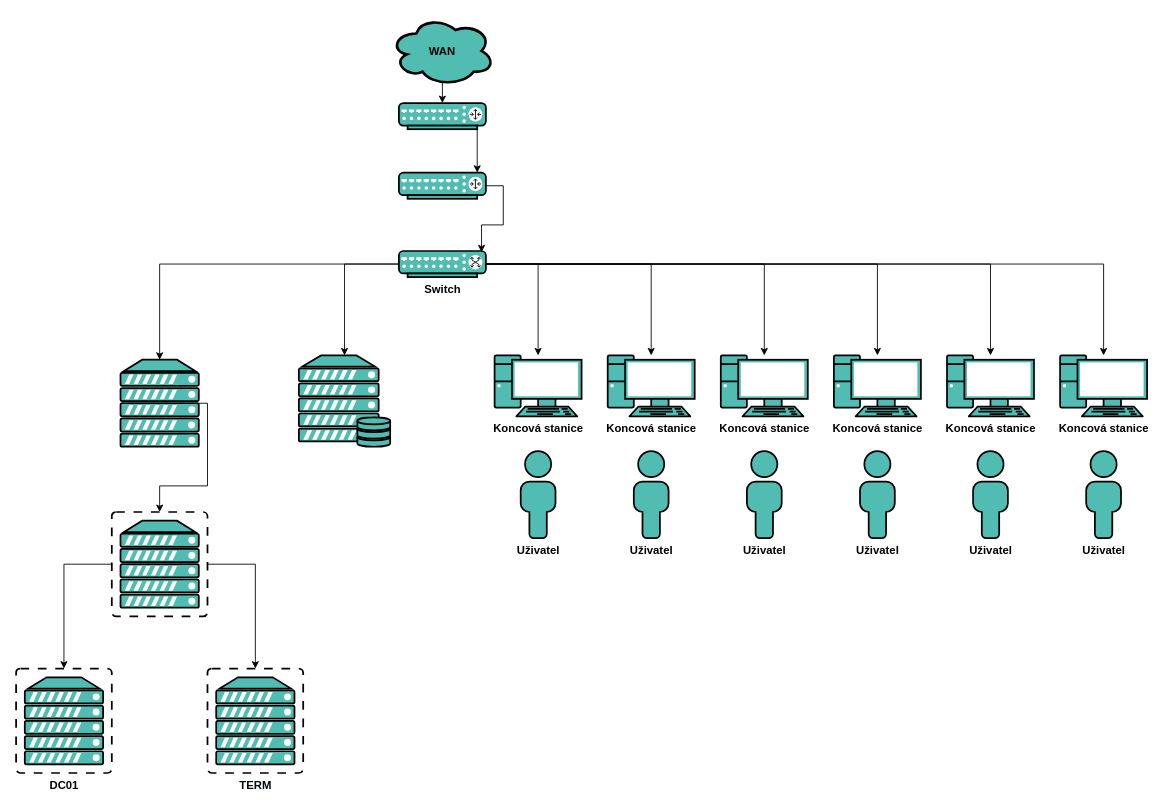
This 1163x808 diagram has some shape labels left out. Each missing label, with the centre of its shape:
"HYPERVISOR" belongs at (x=159, y=563).
"Qnap NAS" belongs at (x=344, y=401).
"Router O2" belongs at (x=442, y=115).
"Server DELL" belongs at (x=159, y=403).
"Wifi router Mikrotik" belongs at (x=442, y=185).
